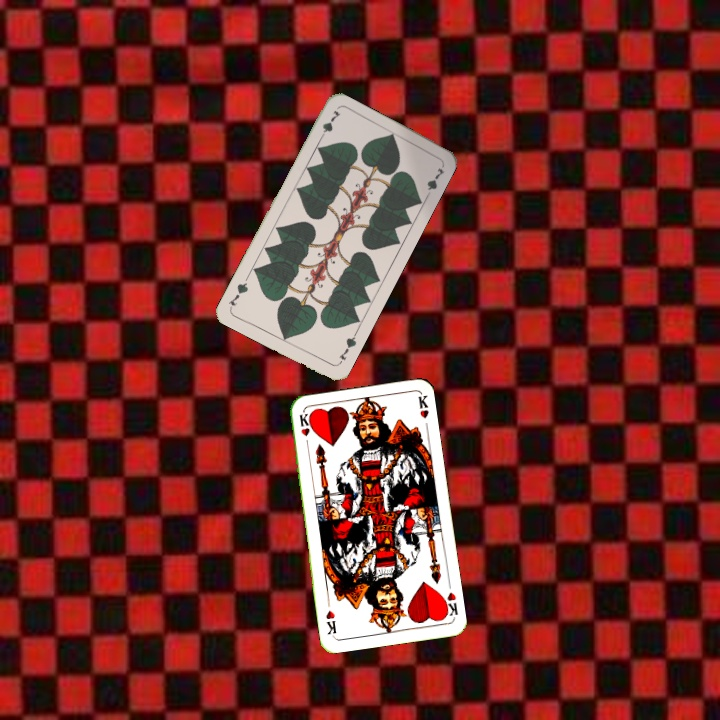G7: (315, 106, 343, 144), (334, 329, 359, 367)
HK: (295, 409, 312, 450), (439, 588, 460, 620)
